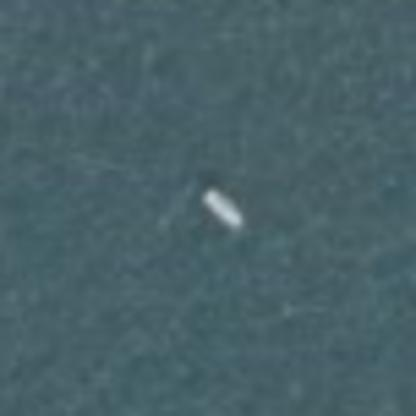ship: (196, 185, 247, 234)
